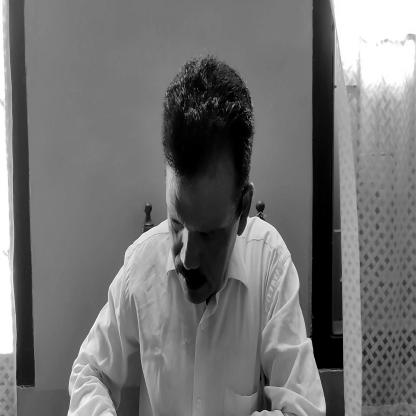Distracted: (162, 72, 252, 306)
